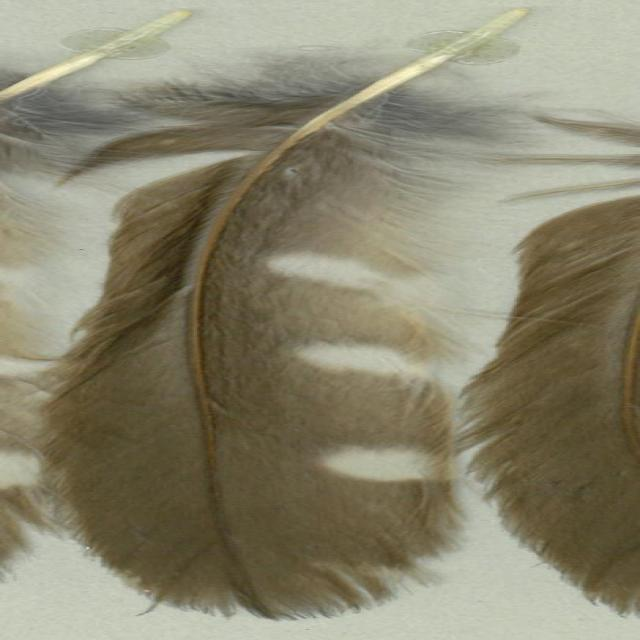feather: (0, 4, 548, 621), (449, 94, 640, 640)
